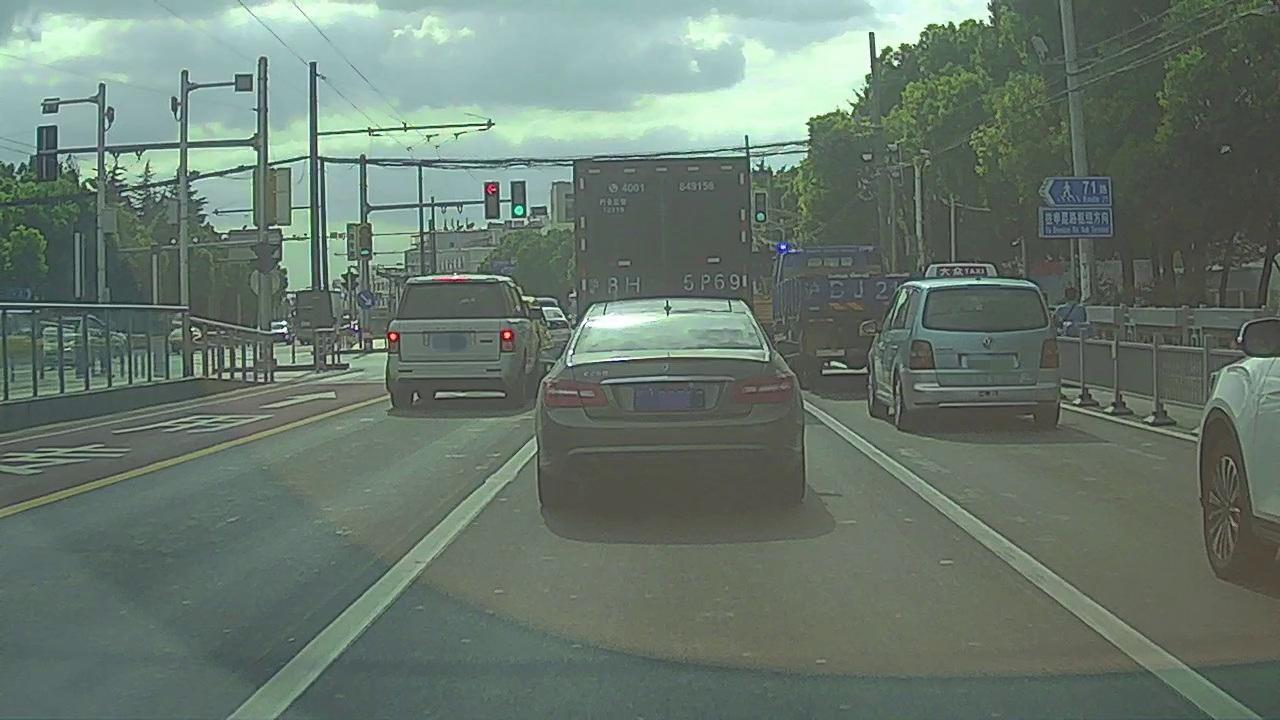traffic_light: (511, 180, 526, 221), (485, 183, 499, 218), (755, 192, 766, 224)
